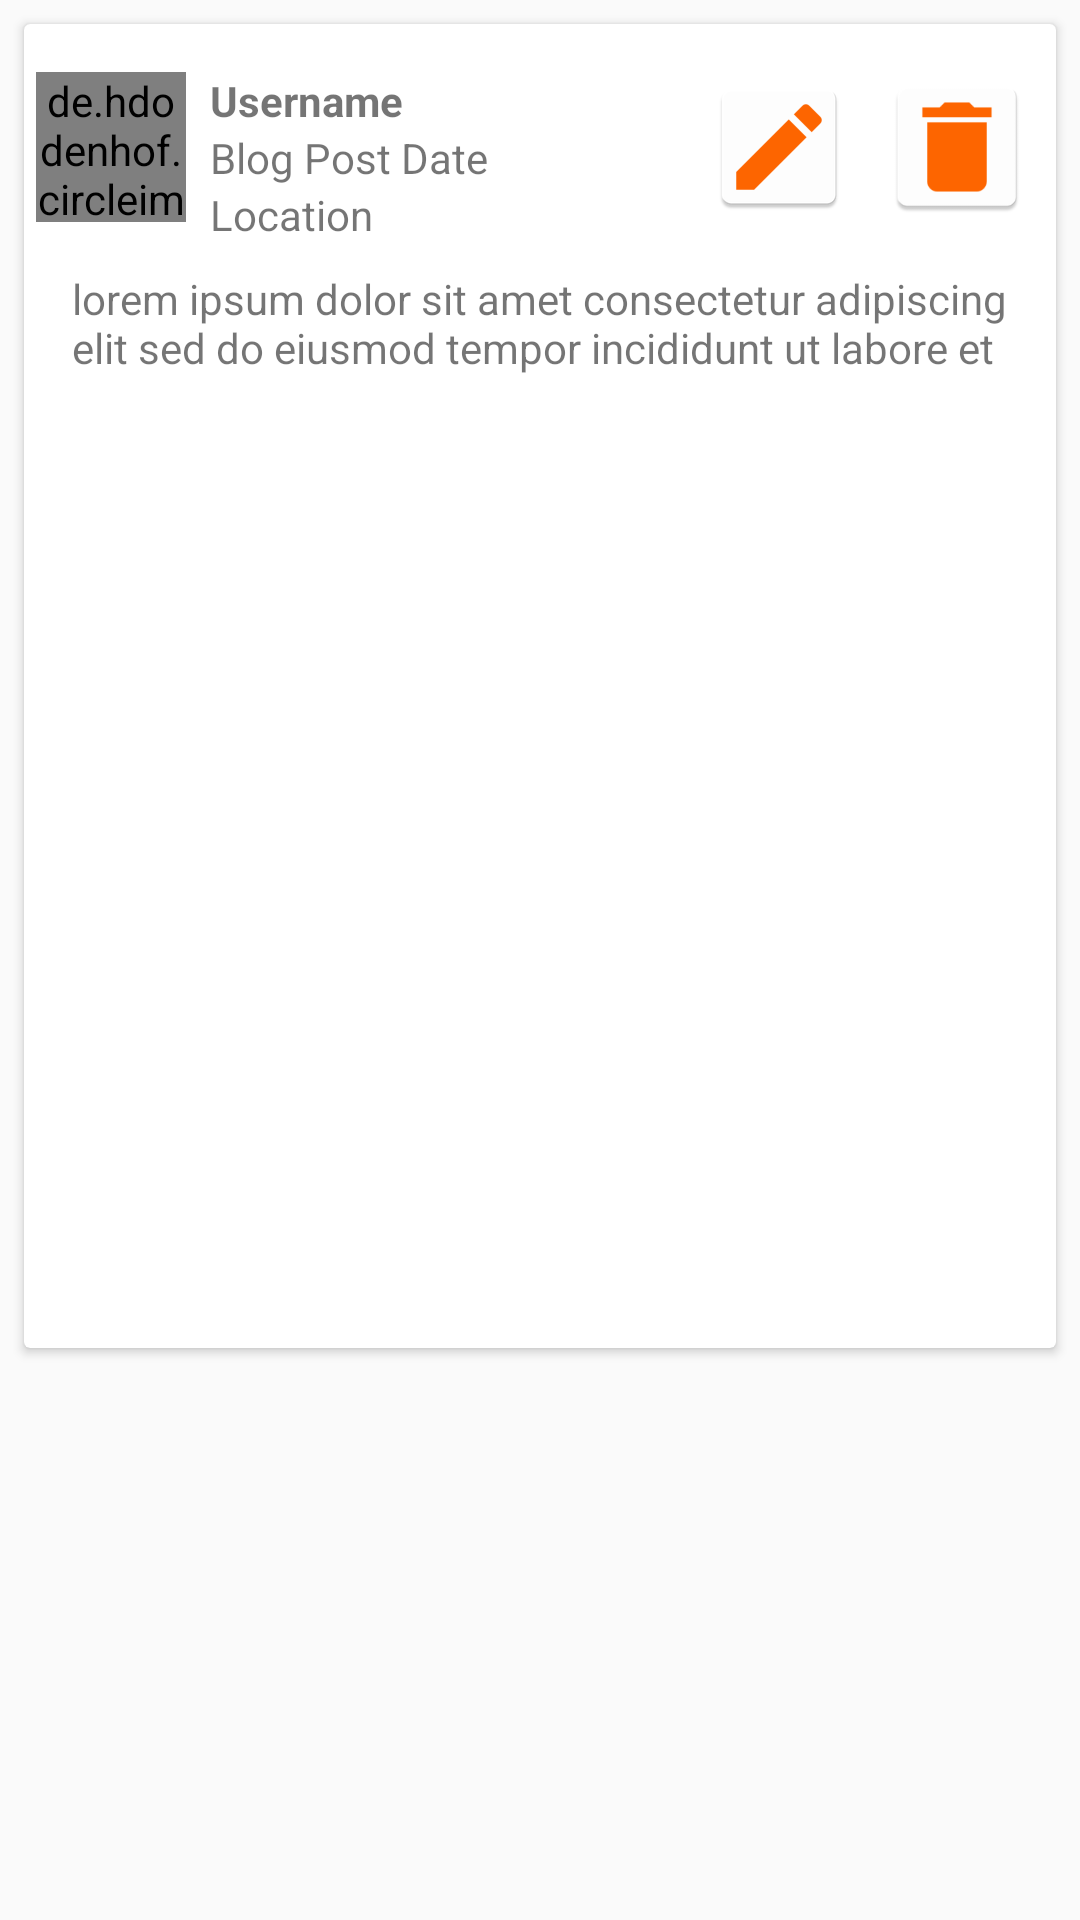

Screen size 1080px×1920px. Icon name, then its center in pixels as point (x, y):
deletr: point (957, 153)
edit: point (779, 152)
